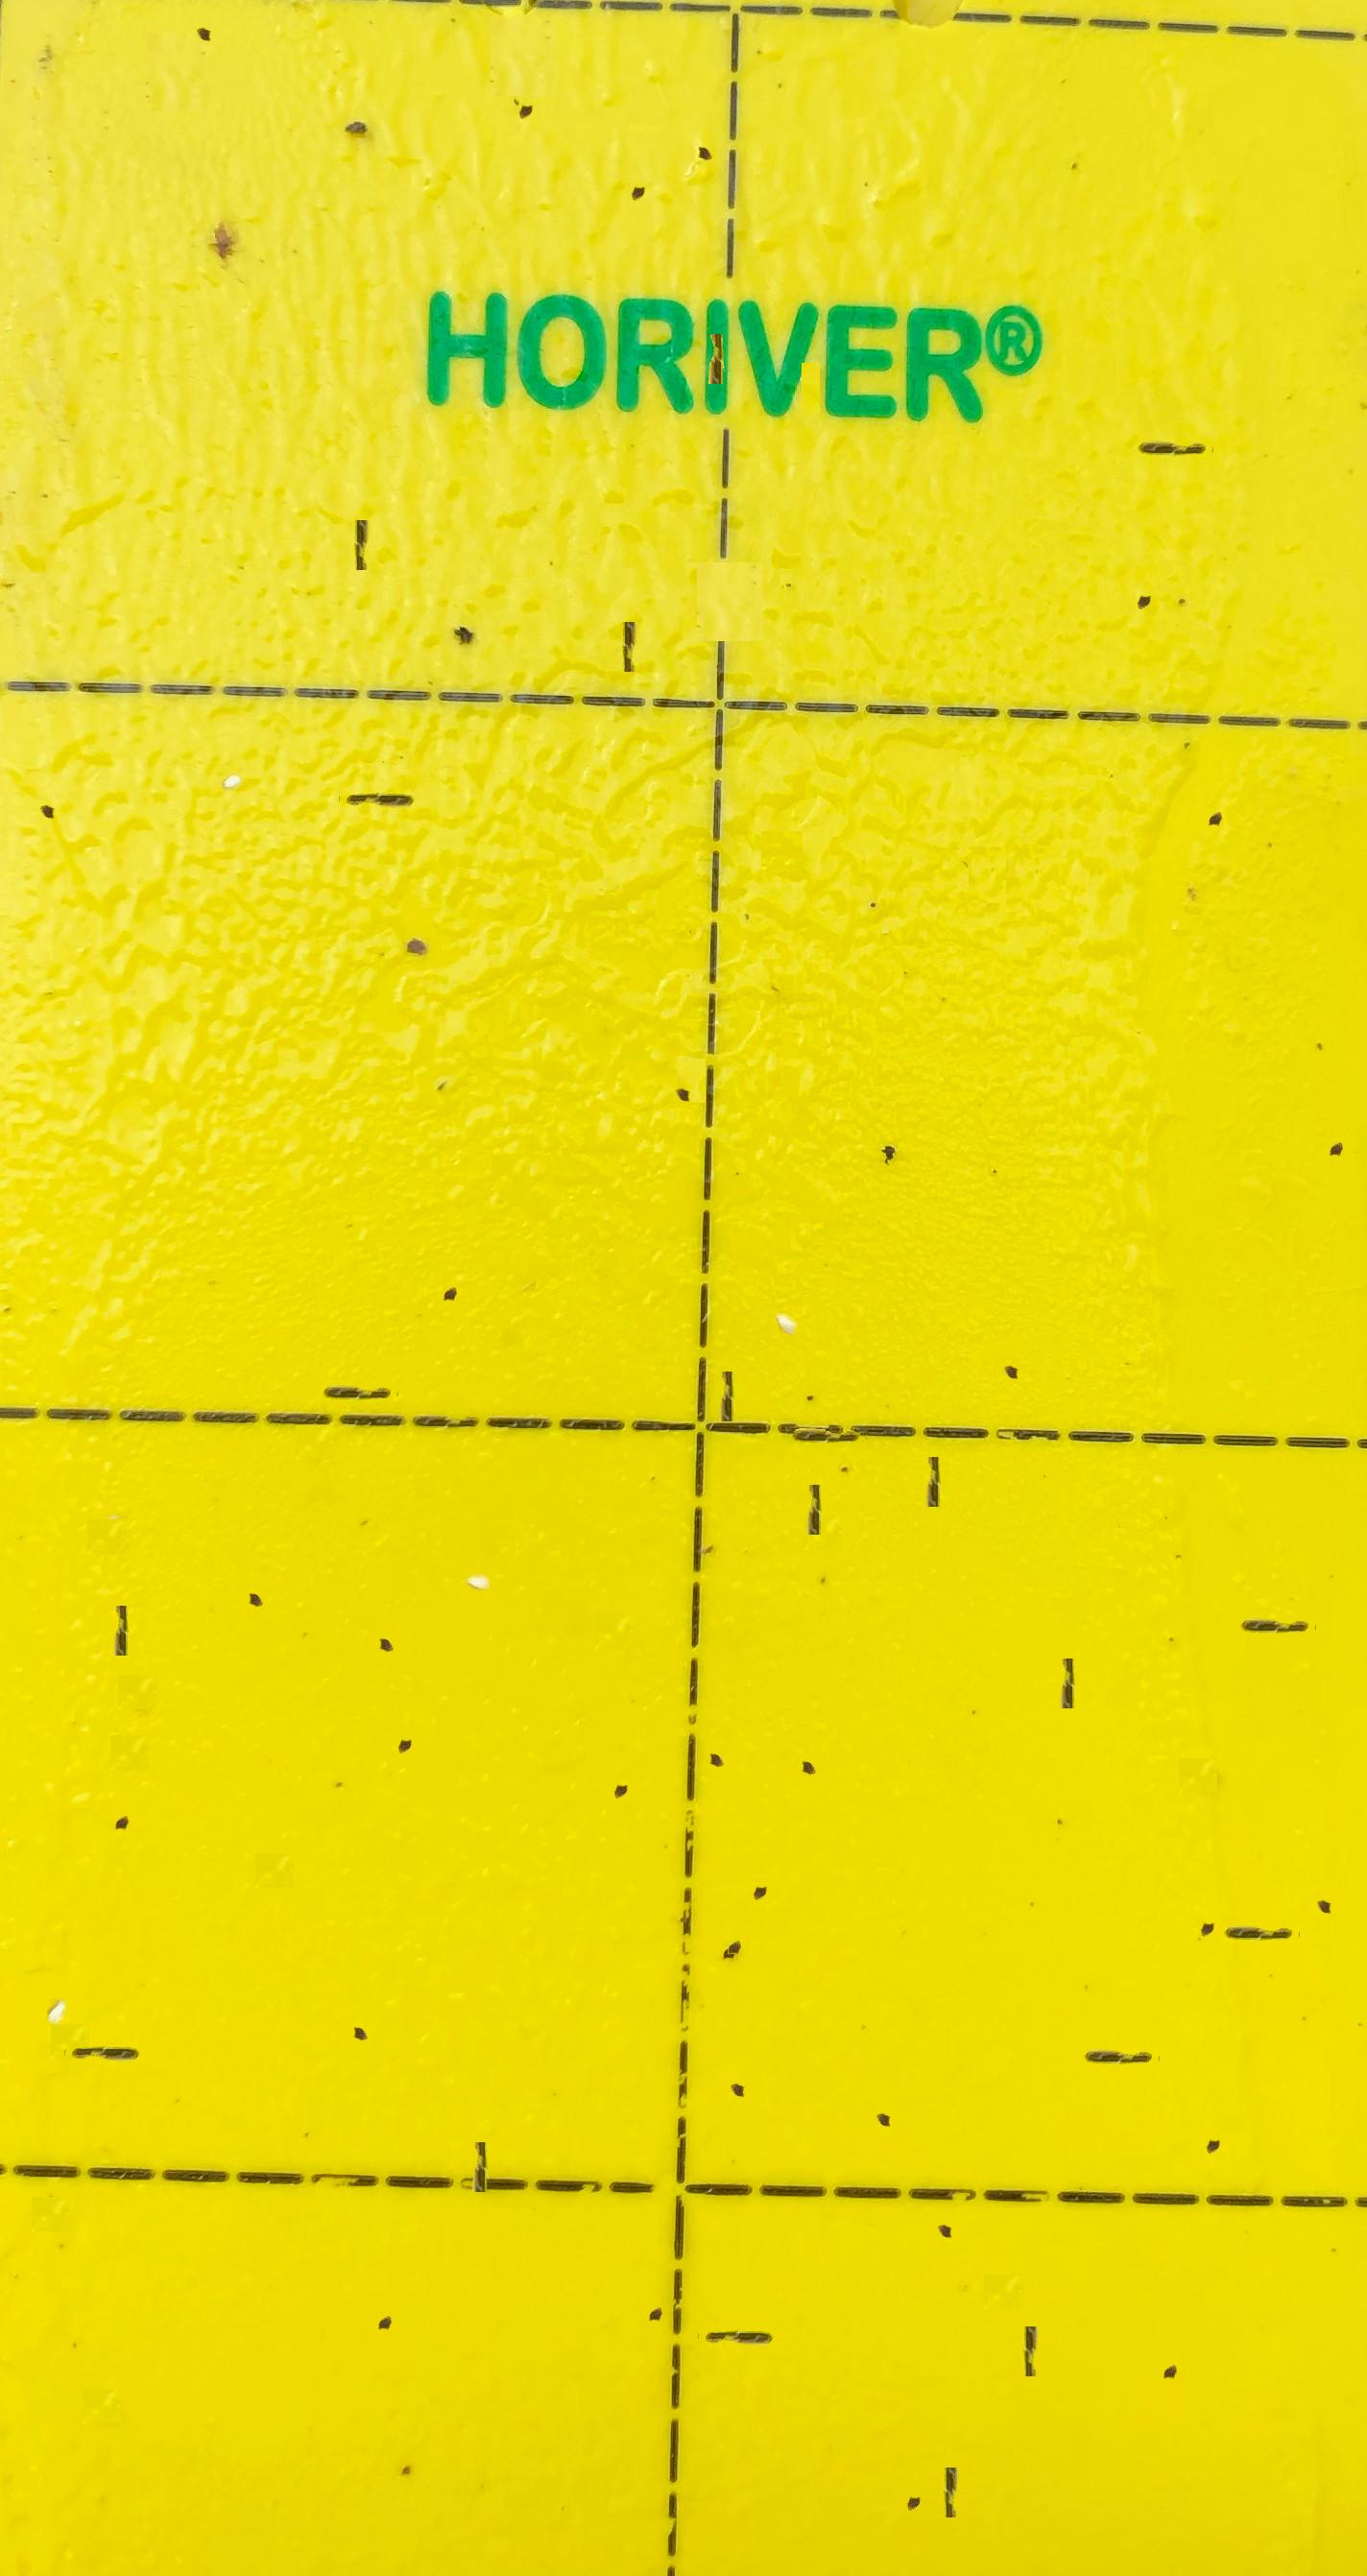white_fly: (211, 710, 254, 758), (37, 1947, 80, 1992), (765, 1261, 808, 1303), (459, 1528, 499, 1566)
